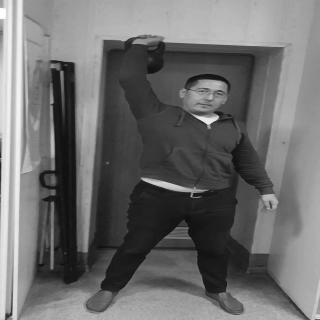kettlebell: (122, 36, 165, 76)
